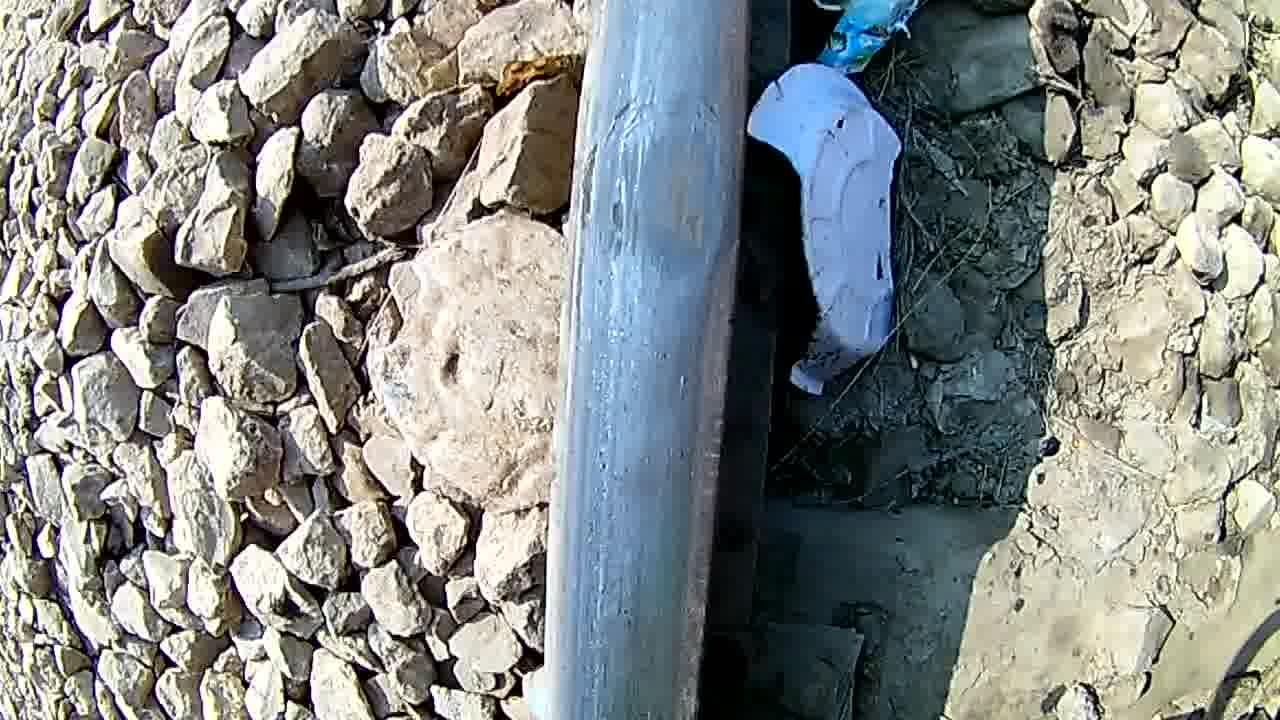bolt_missing: (582, 86, 754, 300)
